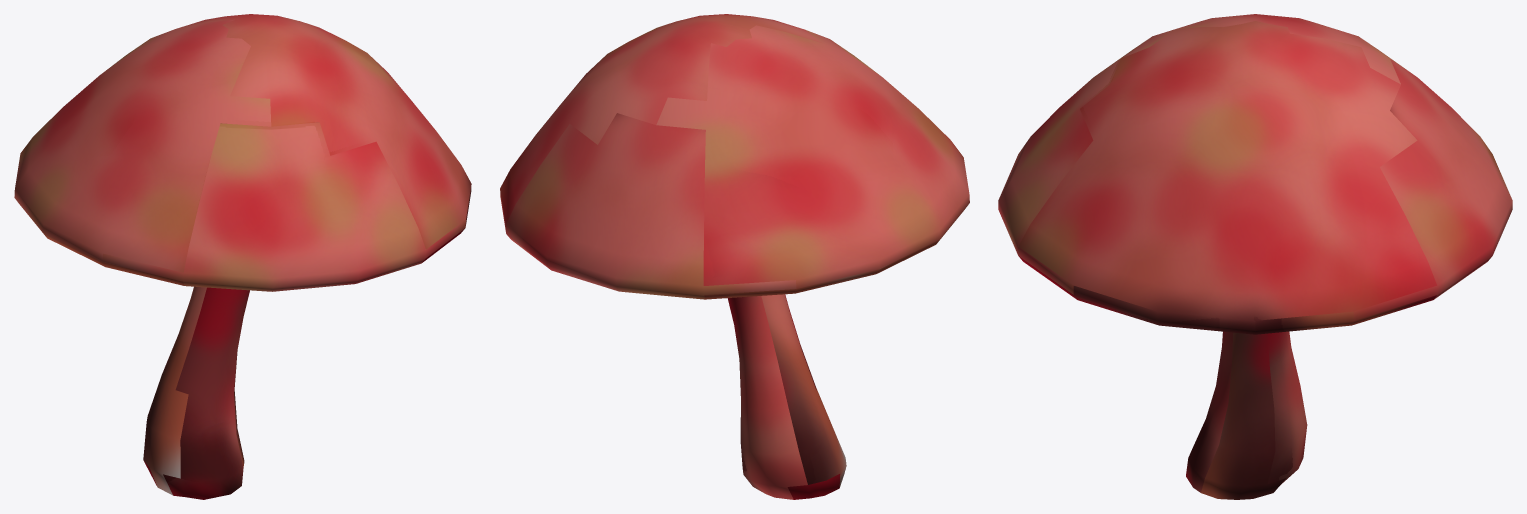
The model's file is Mushroom_002.fbx.
The picture shows the model from 3 angles, left to right: view 1: azimuth 30°, elevation 25°; view 2: azimuth 150°, elevation 25°; view 3: azimuth 270°, elevation 25°; orthographic projection. The views are drawn at different scales.
Parts seen in each view (by area): view 1: Mushroom_002; view 2: Mushroom_002; view 3: Mushroom_002.
Boxes of the visible parts, left/top/right/bottom form: Mushroom_002: left=14, top=14, right=471, bottom=499; Mushroom_002: left=500, top=14, right=969, bottom=499; Mushroom_002: left=998, top=14, right=1512, bottom=499.
Size of the model in its own units: 1491 by 1579 by 1491.
